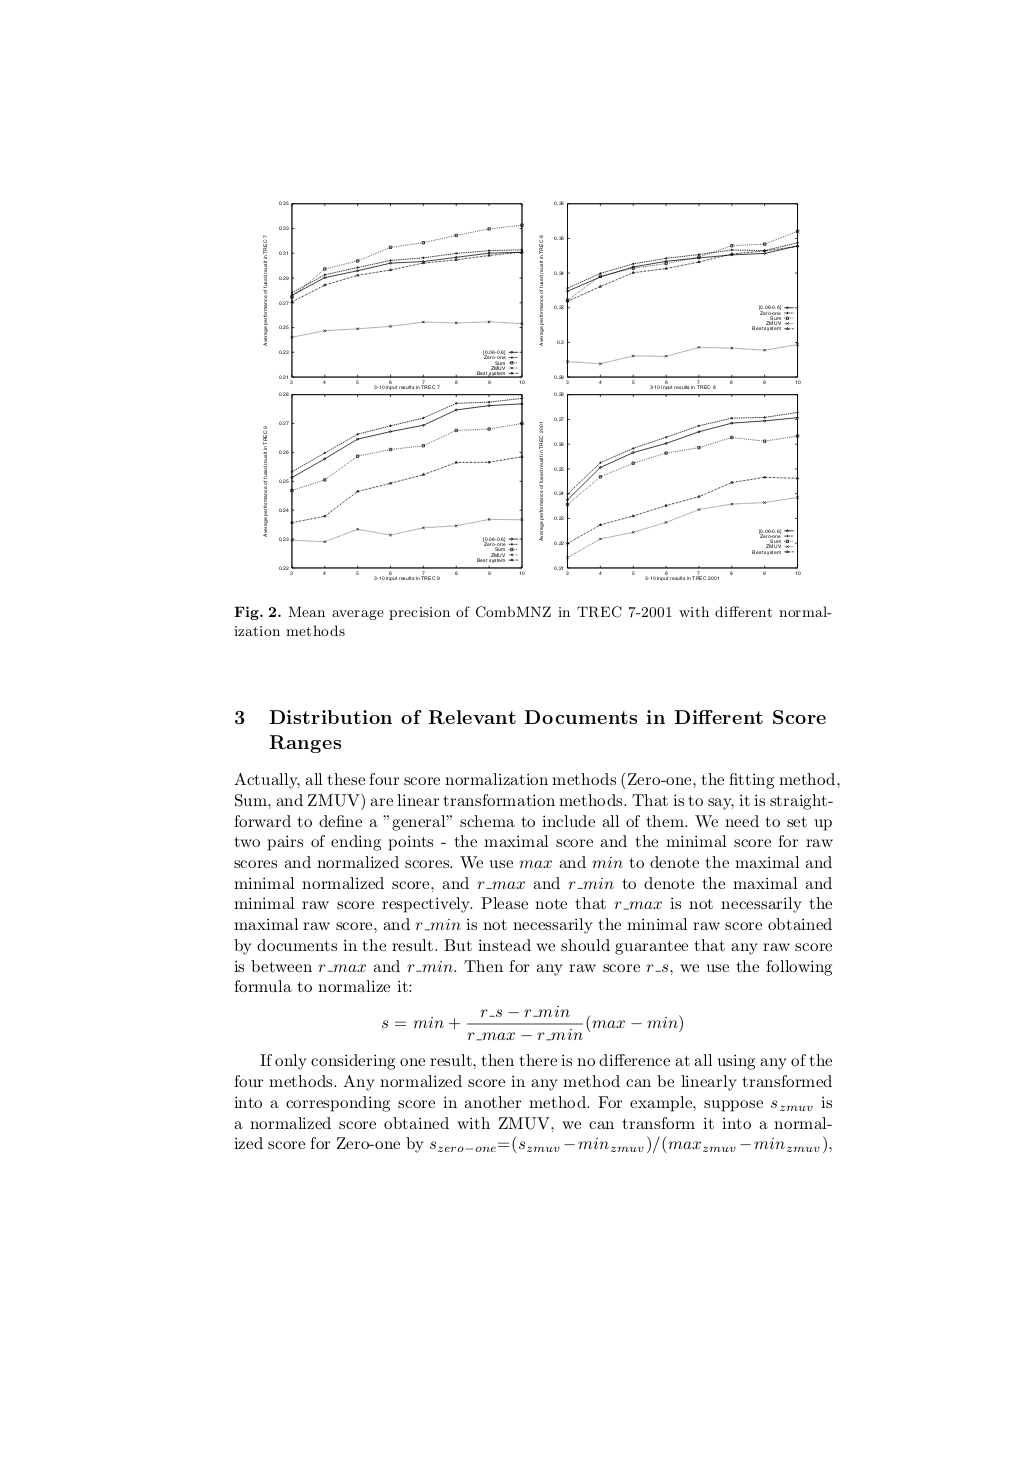figure: (539, 389, 800, 580), (263, 392, 522, 580), (263, 201, 523, 387), (539, 201, 800, 385)
formula: (382, 1008, 682, 1041)
